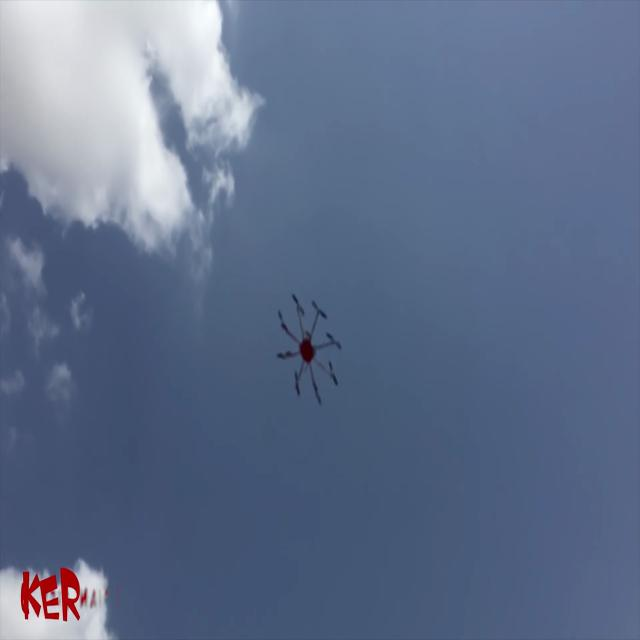drone: (275, 268, 355, 416)
